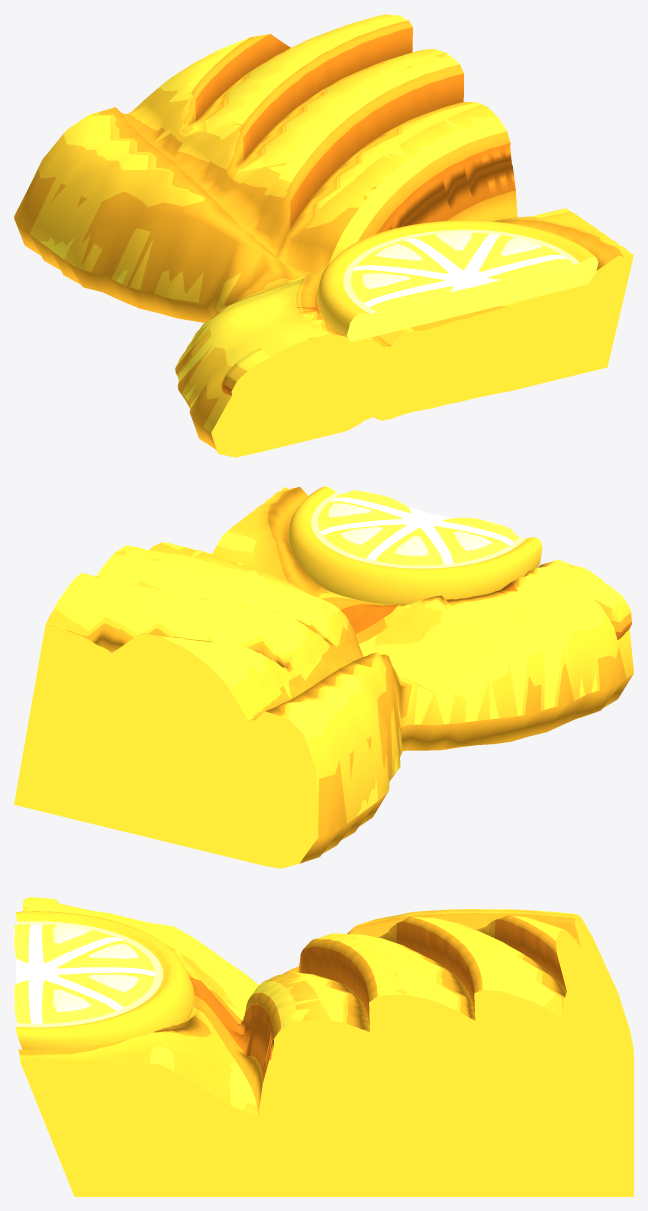
Rendered from lemon_beetle_ml.glb.
3 renders of one model, top to bottom at view 1: azimuth 30°, elevation 25°; view 2: azimuth 150°, elevation 25°; view 3: azimuth 270°, elevation 25°, orthographic. The views are drawn at different scales.
Visible parts, largest first — view 1: lemon_beetle_ml; view 2: lemon_beetle_ml; view 3: lemon_beetle_ml.
Part boxes in pixels (box(x1,y1,x2,y2)): lemon_beetle_ml: box(14, 14, 633, 457); lemon_beetle_ml: box(14, 486, 633, 868); lemon_beetle_ml: box(14, 897, 633, 1196).
Size of the model in its own units: 24 by 11.47 by 31.02.
